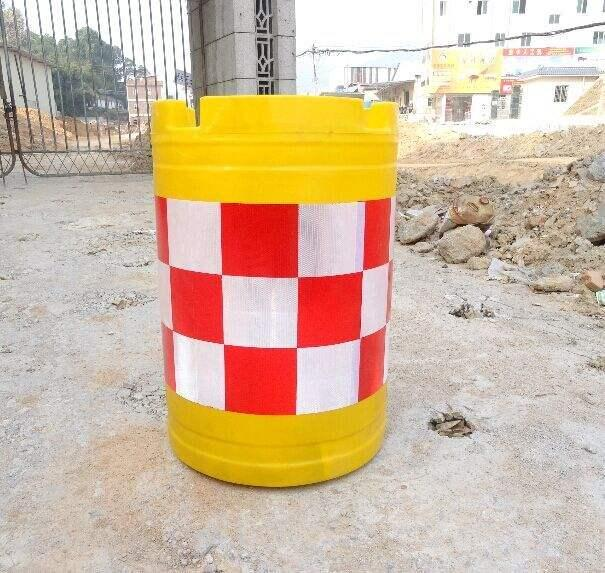sign: (138, 81, 406, 490)
